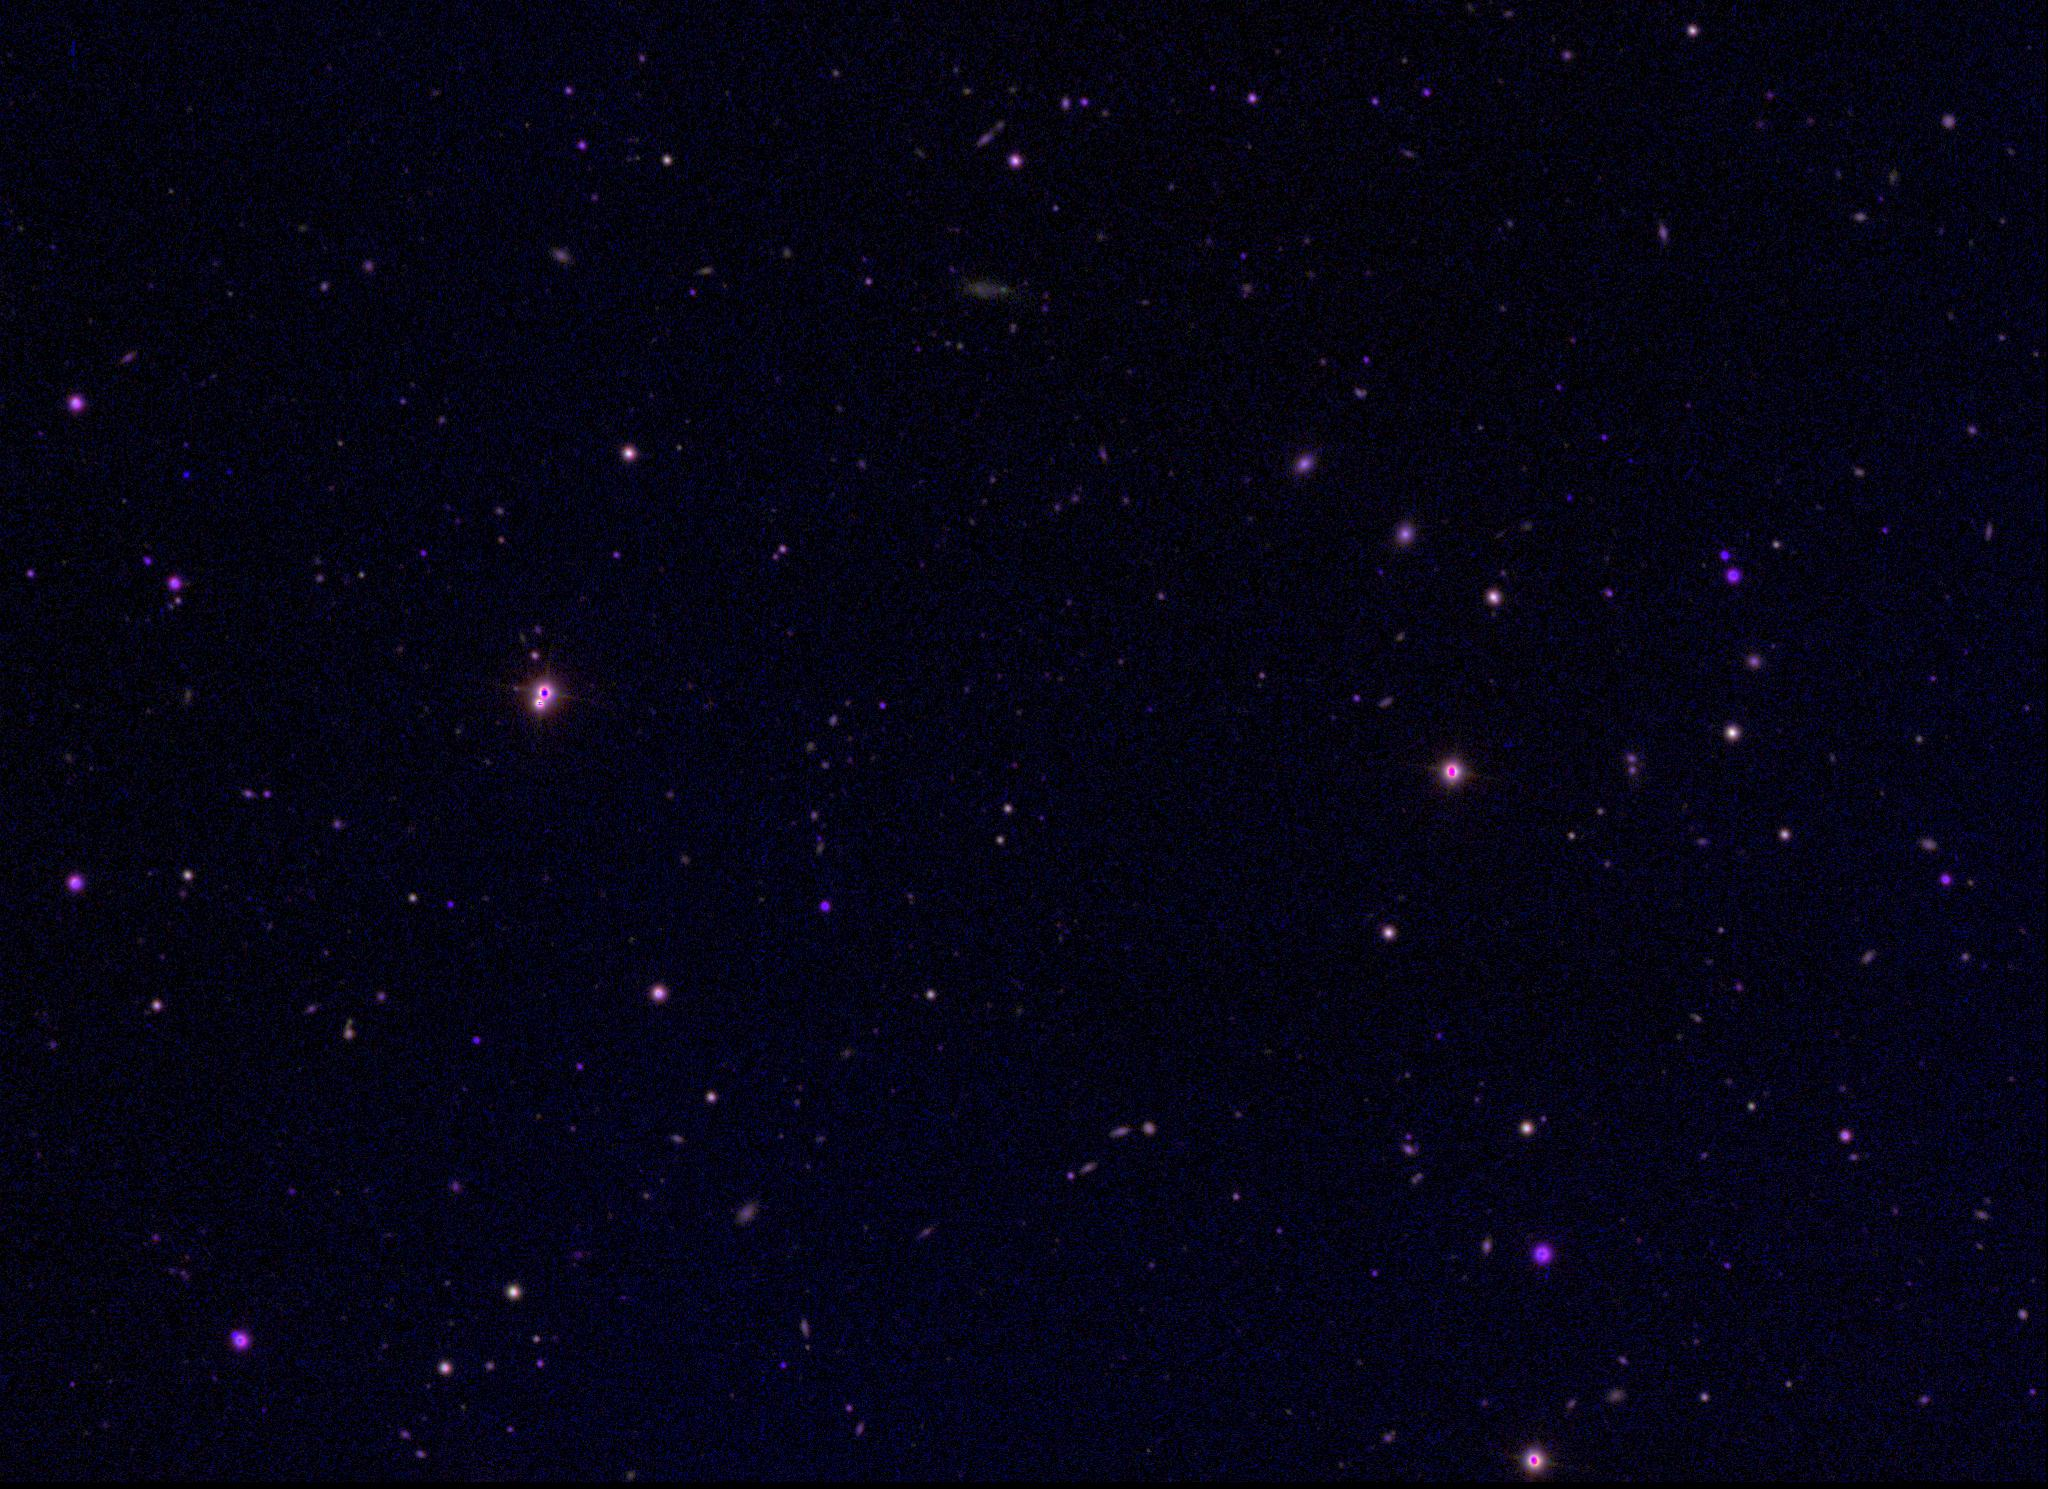L: (180, 468, 194, 480)
